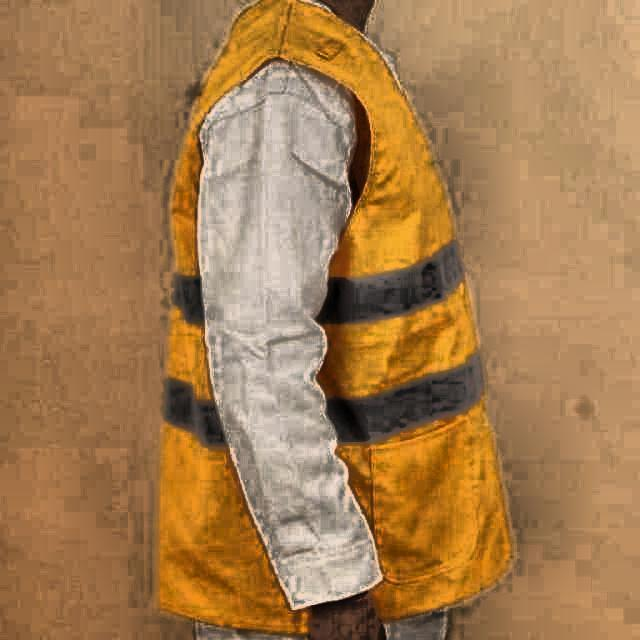safety_jacket: (166, 11, 513, 615)
